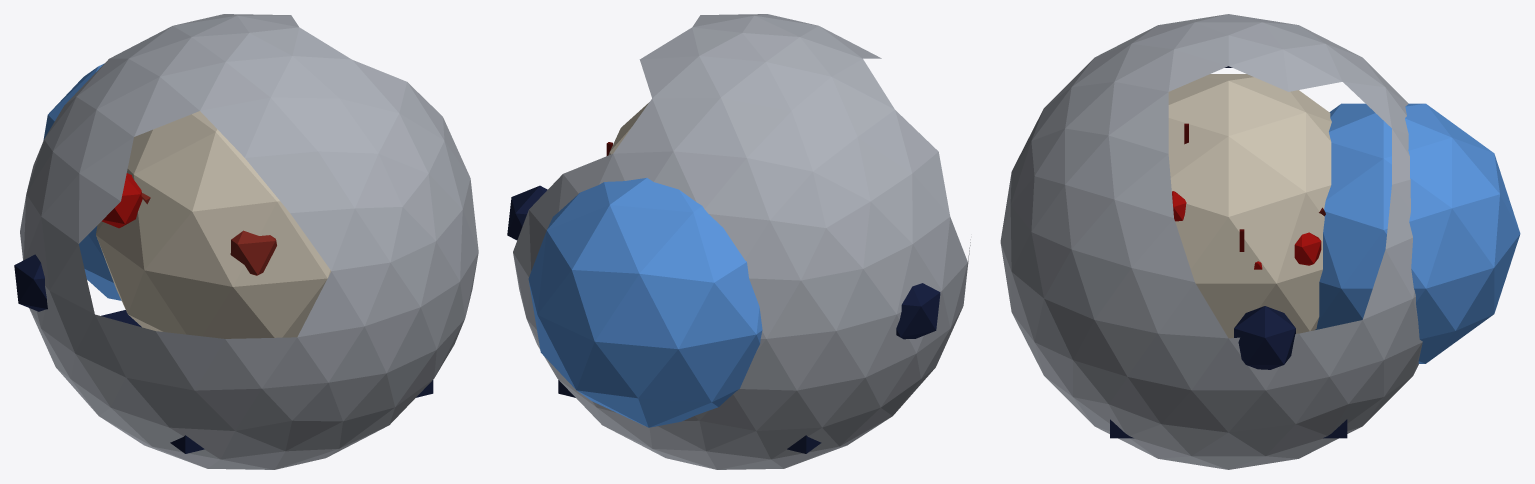
Rendered from american_trooper_headshot.glb.
The picture shows the model from 3 angles, left to right: view 1: azimuth 30°, elevation 25°; view 2: azimuth 150°, elevation 25°; view 3: azimuth 270°, elevation 25°; orthographic projection.
Parts seen in each view (by area): view 1: american_trooper_headshot; view 2: american_trooper_headshot; view 3: american_trooper_headshot.
Part boxes in pixels (x1=…): american_trooper_headshot: x1=14, y1=14, x2=478, y2=469; american_trooper_headshot: x1=507, y1=14, x2=970, y2=469; american_trooper_headshot: x1=1000, y1=14, x2=1520, y2=469.
Size of the model in its own units: 1.06 by 1 by 1.14.
